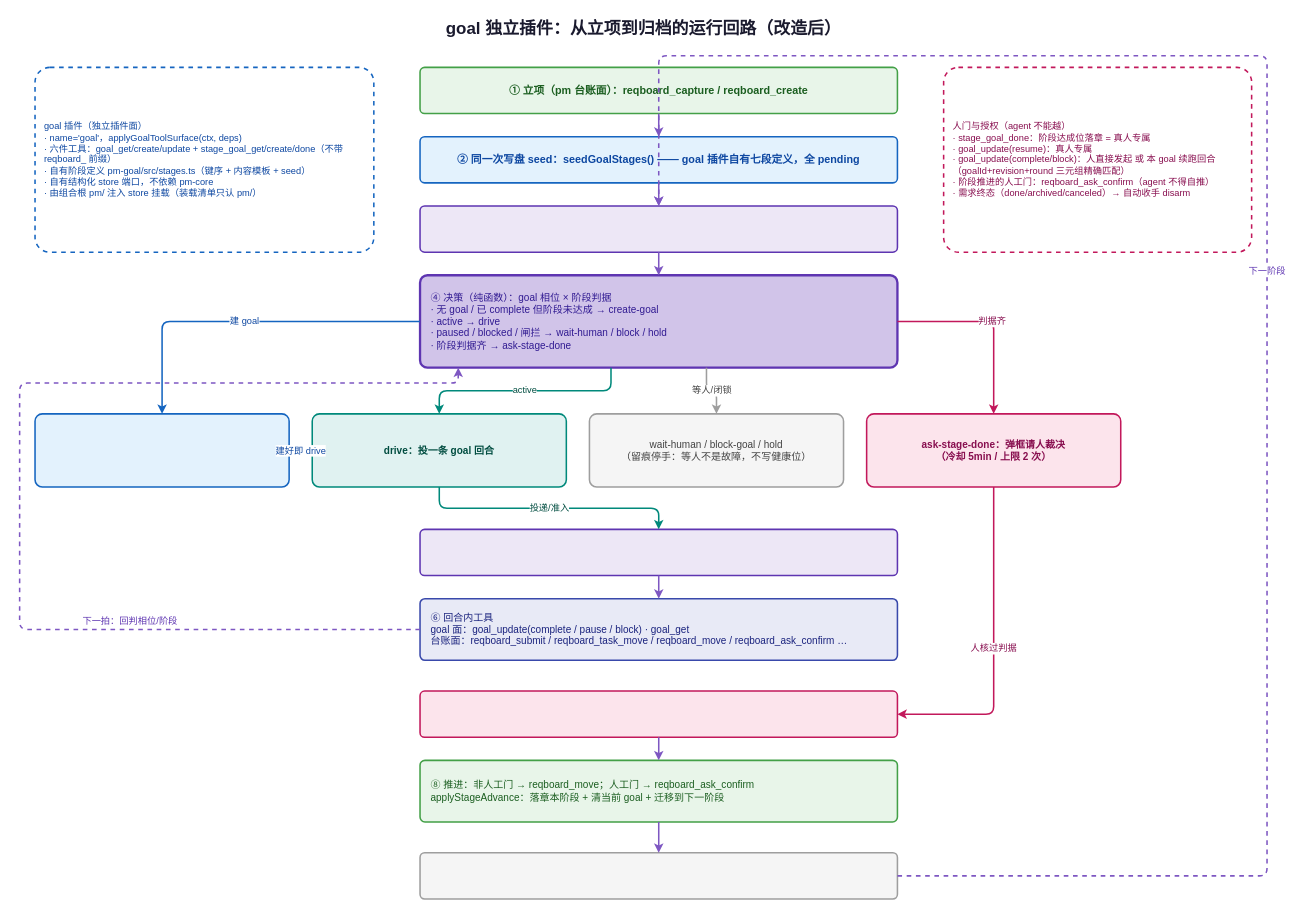
Some shapes in this 1298 by 912 pixel diagram are drawn without their labels. The shapes that lost their labels are listed below. From the top down, each one's centre as x and y in pixels, then its label:
point (658, 229): ③ 驱动拍 GoalRoundManager（唯一驱动点）：factsOf → decideGoalRound（纯函数、零 I/O）
point (162, 450): create-goal（系统建，agent 不建） objective = 本阶段阶段目标陈述
point (658, 552): ⑤ 回合：renderRoundPrompt（source=dive；带 goalId + revision + round）
point (658, 714): ⑦ 人落章 stage_goal_done（真人专属）→ ready_to_close
point (658, 875): ⑨ 终态：全阶段达成 → 收口；需求 done / archived / canceled → 收手（disarm）
